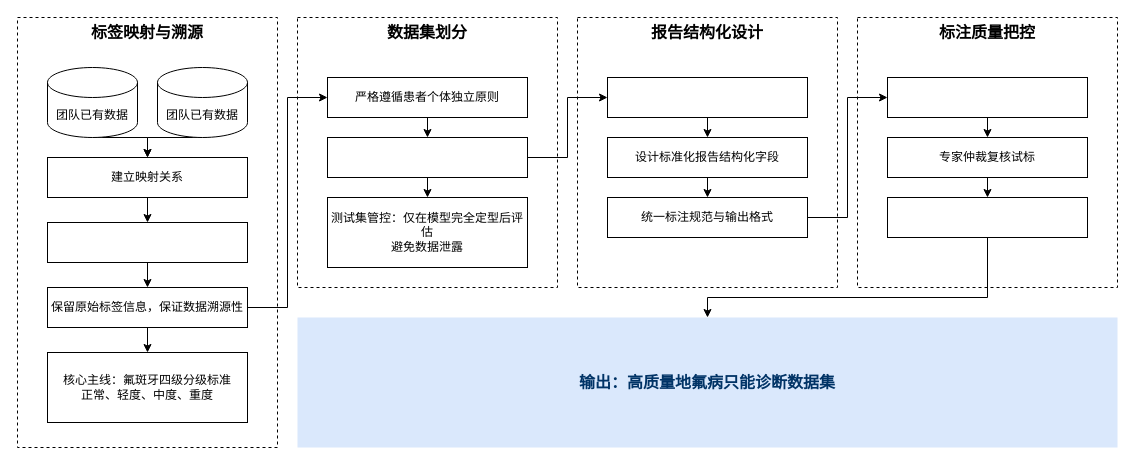
Some shapes in this 1135 by 465 pixel diagram are drawn without their labels. The box of each missing label's shape, as (x1, y1, x2, y2) in pixels:
划分训练集、验证集、测试集: (326, 136, 528, 178)
双医生独立标注: (886, 76, 1088, 118)
同步记录字段标注一致性与标注修订率: (886, 196, 1088, 238)
图谱挡位+样本文件名+公开数据标签: (46, 222, 248, 262)
结合氟斑牙辅助报告生成任务需求: (606, 76, 808, 118)
